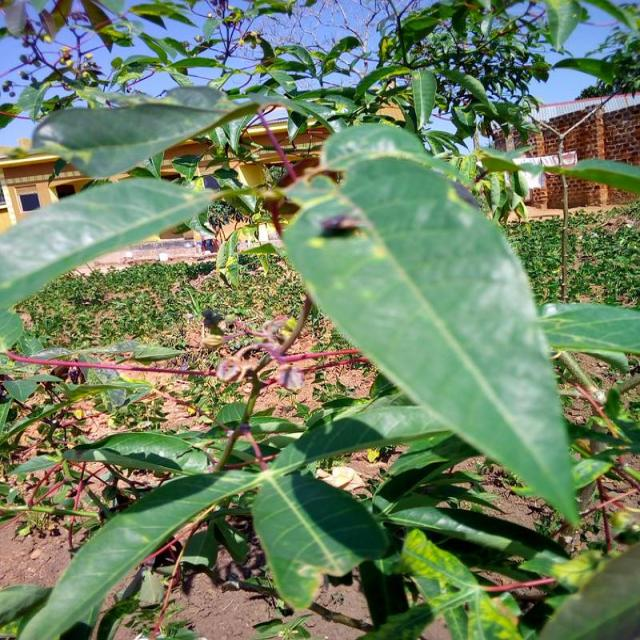cassava leaf: (279, 122, 581, 528), (0, 174, 216, 350), (30, 83, 262, 178), (250, 468, 389, 610)
